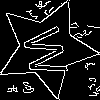W: (22, 23, 77, 80)
